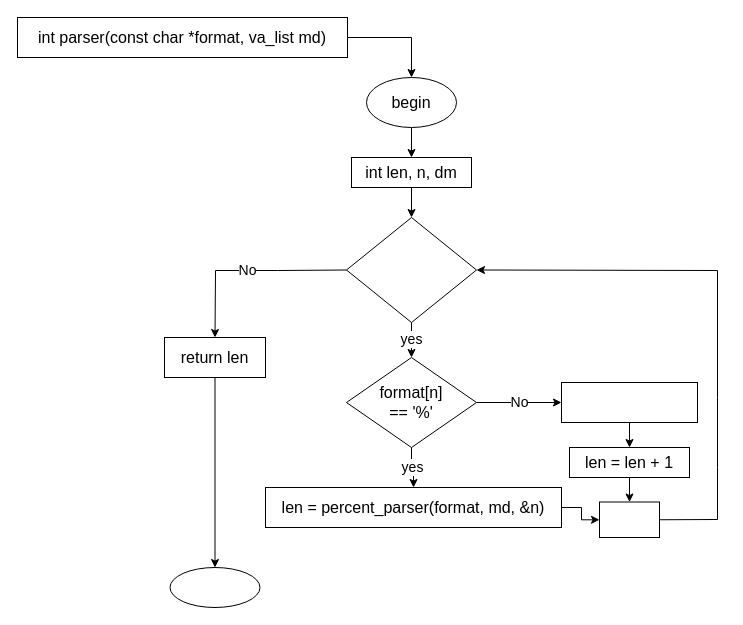
This 743x625 diagram has some shape labels left out. Here are the shapes that lost their labels. From the top down, the box of each, then its label:
(346, 216, 476, 322): format[n] != '\0'
(560, 382, 698, 422): putchar(format[n])
(598, 501, 660, 538): i++
(169, 566, 260, 608): end
